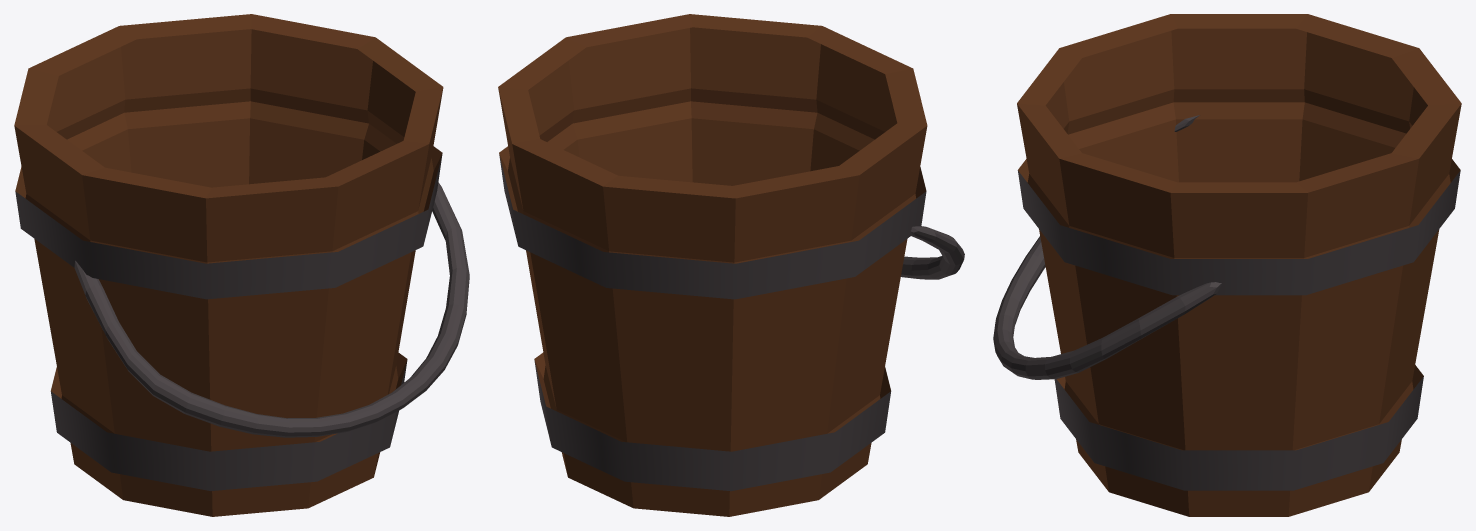
Rendered from bucket1.fbx.
3 renders of one model, left to right at view 1: azimuth 30°, elevation 25°; view 2: azimuth 150°, elevation 25°; view 3: azimuth 270°, elevation 25°, orthographic.
Parts seen in each view (by area): view 1: Cylinder, Cylinder.001, Cylinder.002, Torus; view 2: Cylinder, Cylinder.001, Cylinder.002, Torus; view 3: Cylinder, Cylinder.001, Cylinder.002, Torus.
Part boxes in pixels (<box>): Cylinder: <box>14,14,443,516</box>; Cylinder.001: <box>15,155,442,299</box>; Cylinder.002: <box>50,361,407,490</box>; Torus: <box>74,182,469,437</box>; Cylinder: <box>498,14,927,516</box>; Cylinder.001: <box>499,155,926,299</box>; Cylinder.002: <box>534,361,891,491</box>; Torus: <box>901,226,964,279</box>; Cylinder: <box>1017,14,1461,516</box>; Cylinder.001: <box>1017,170,1460,295</box>; Cylinder.002: <box>1054,376,1423,490</box>; Torus: <box>993,115,1221,379</box>.
Size of the model in its own units: 40.52 by 35.96 by 43.76.
